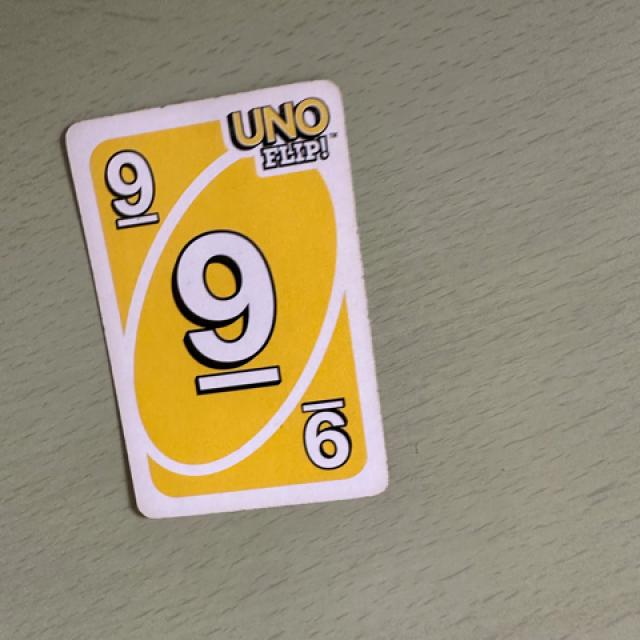lyellow-9: (96, 132, 187, 236)
